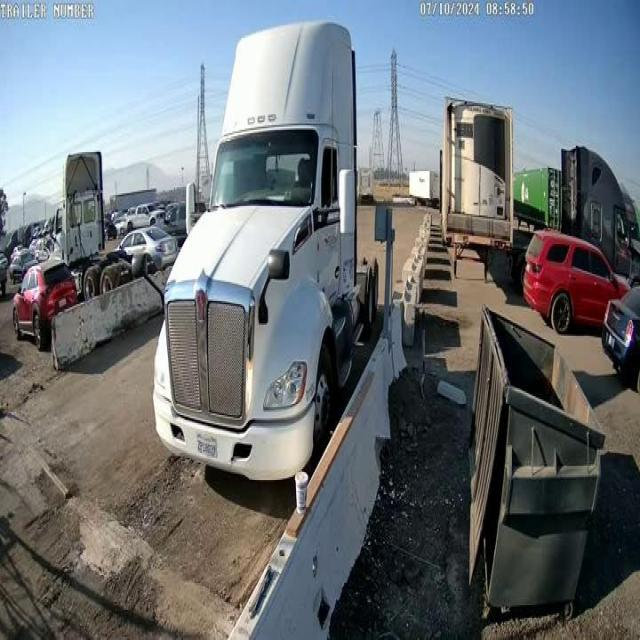TRUCK_OUT: (152, 19, 382, 482)
